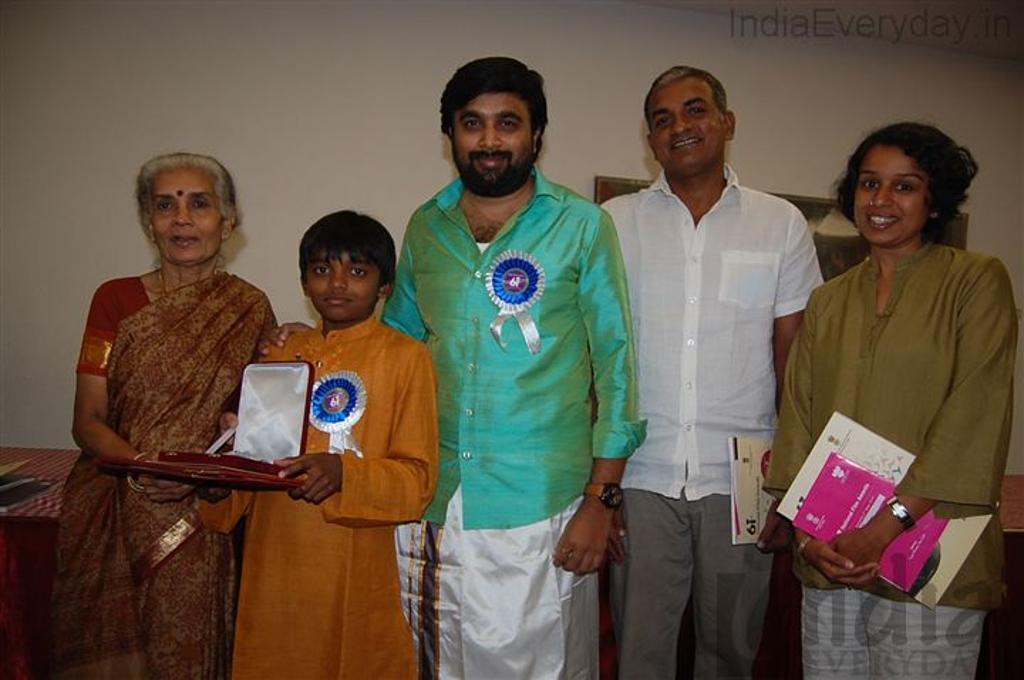face: (450, 72, 536, 194), (854, 140, 934, 246), (644, 74, 720, 170), (152, 160, 218, 264), (306, 228, 376, 324)
